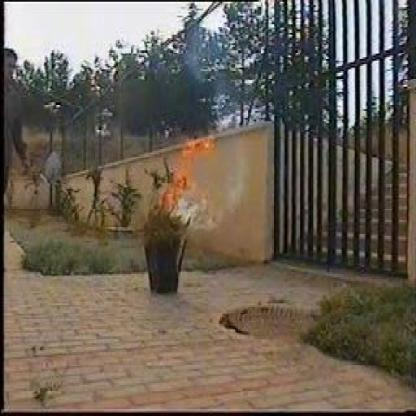-: (174, 192, 210, 226)
foggia-v2-map80-epoch100 - v1 4323: (176, 136, 214, 183)
